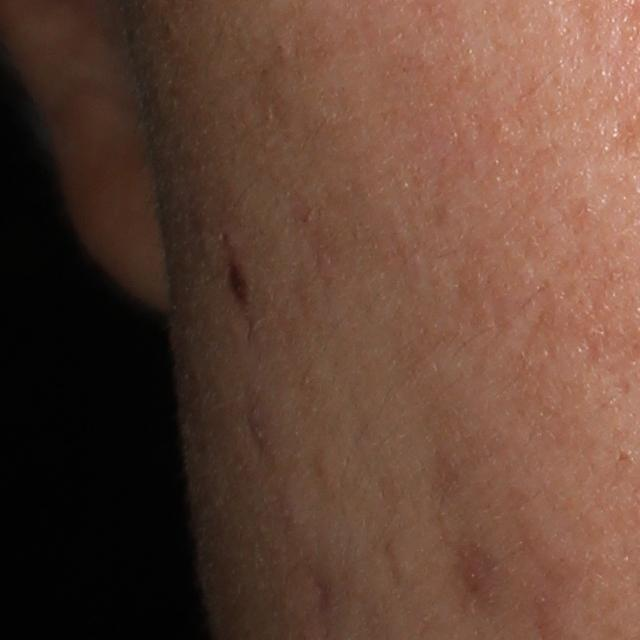atrophic_scar: (443, 521, 509, 611), (304, 567, 338, 628)
nevus: (228, 263, 254, 314)
